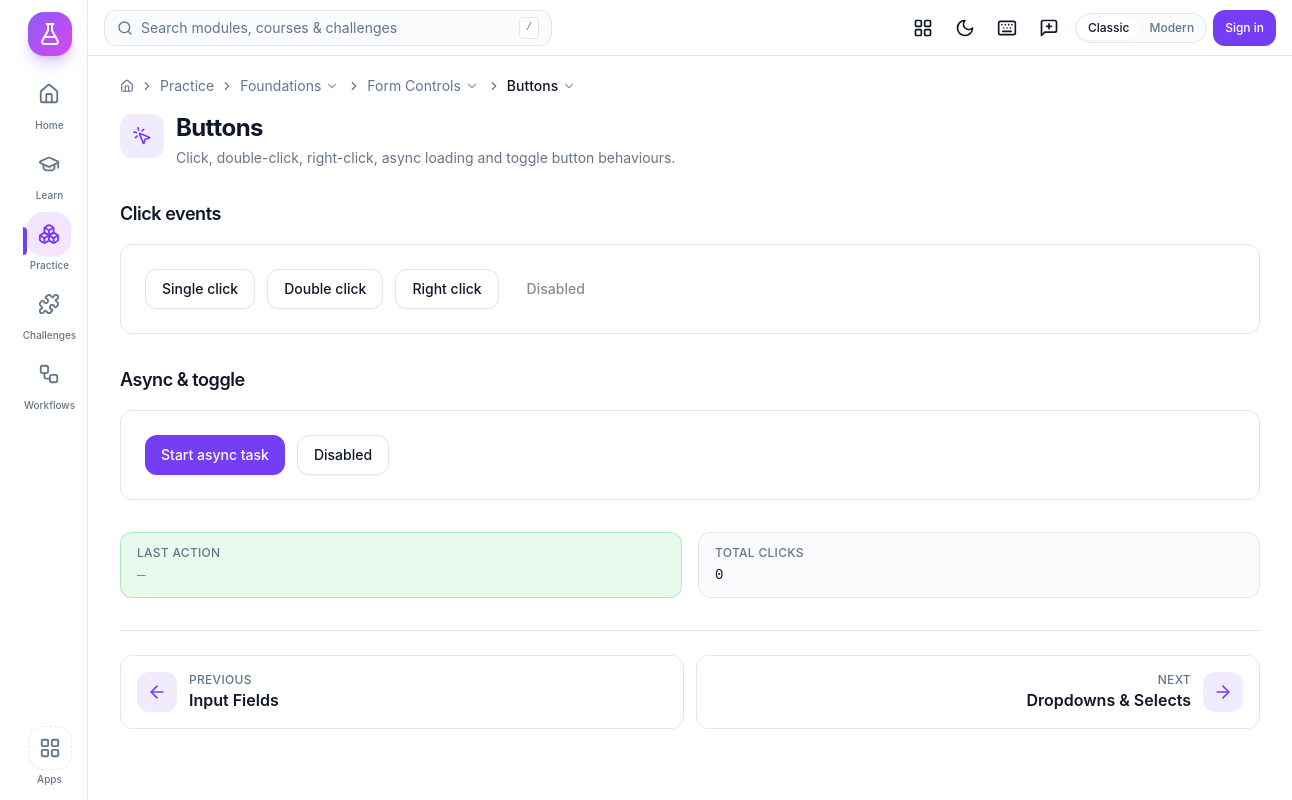
Test: Buttons module › resolves an asynchronous action
The image size is (1292, 800).
Click the button with test id "btn-async" at (215, 455), box [145,435,285,475]
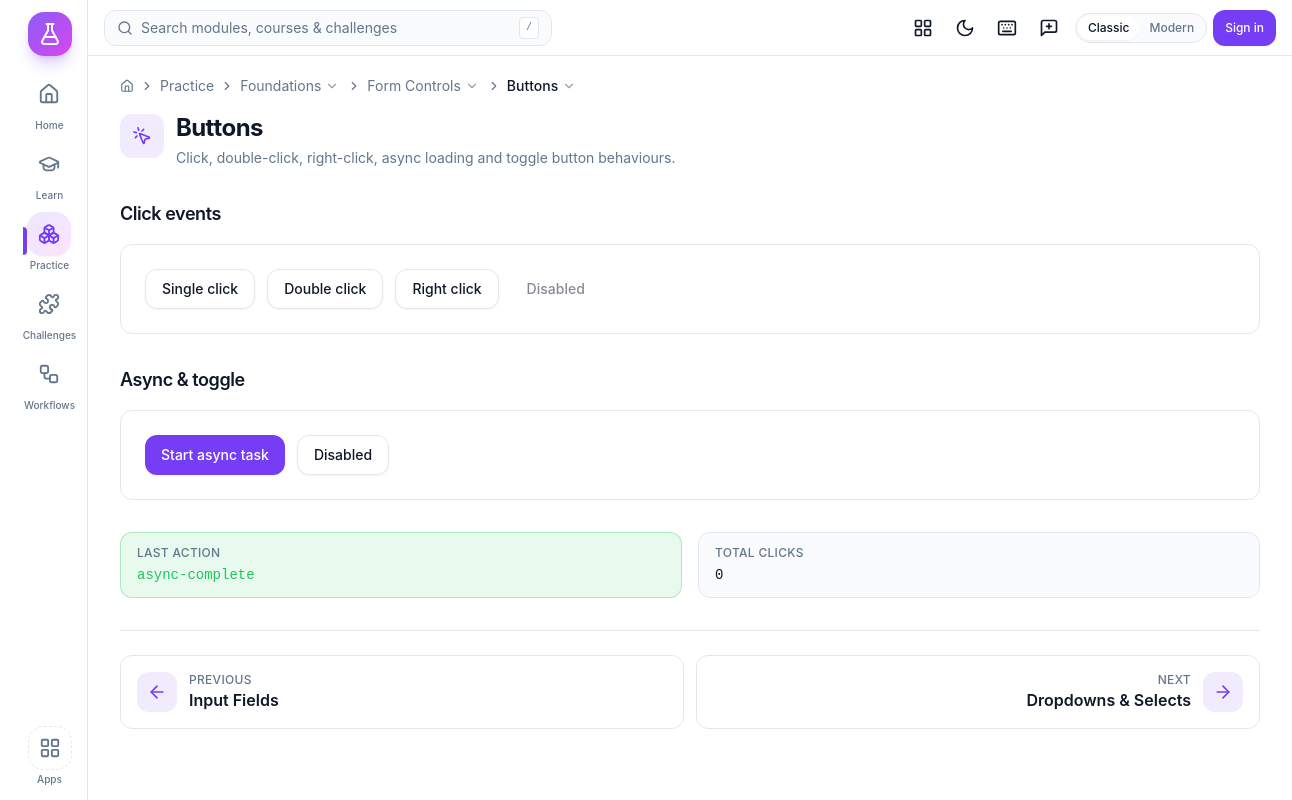
Result: the text with test id "btn-last-action" reads "async-complete" at [137,567,255,583]
